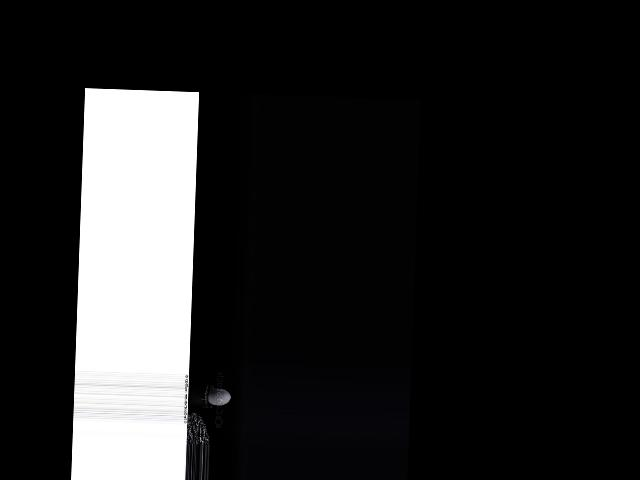egg: (206, 387, 230, 405)
